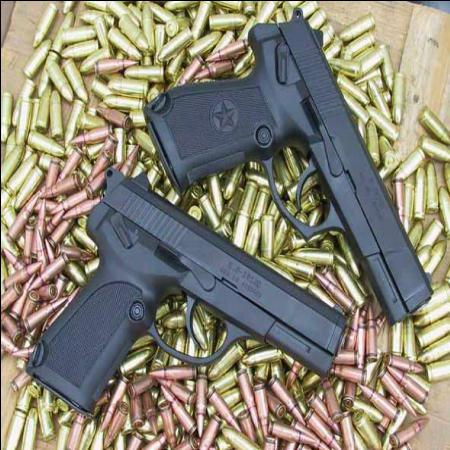Pistol: (141, 5, 437, 326), (26, 165, 348, 405)
